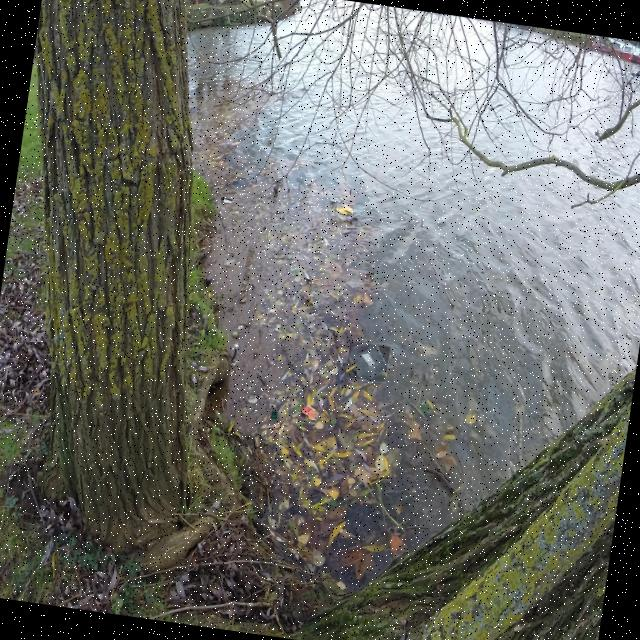Plastic bottle cap: (272, 413, 277, 419)
Tupperware: (348, 346, 387, 381)
Unlabeled litter: (302, 406, 317, 419), (225, 253, 235, 266), (221, 199, 233, 204)
